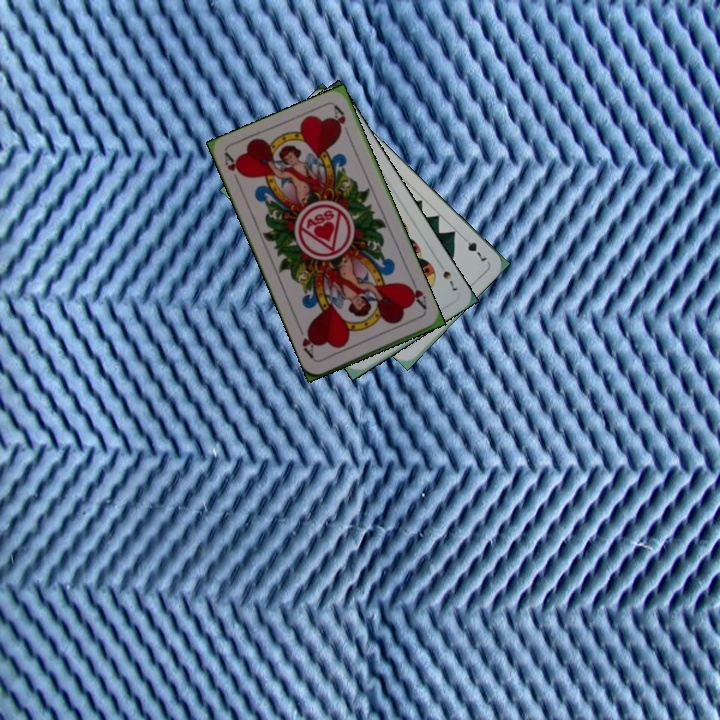G7: (457, 233, 489, 264)
HA: (402, 276, 429, 315), (220, 149, 246, 189)
S7: (434, 258, 461, 294)
